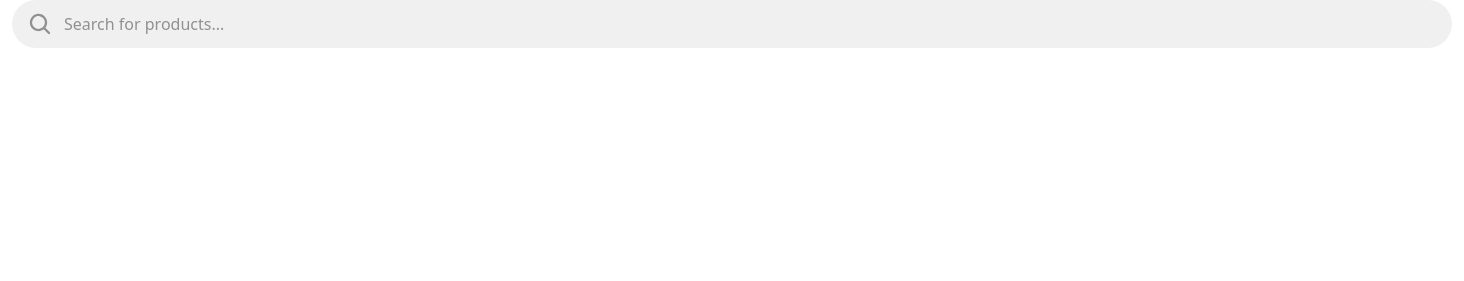
Scenario: SearchBox outside the shop page › waits for two characters, then suggests matches without pressing Enter
In the dropdown labelled "Search for products": (750,24) x1=64 y1=12 x2=1436 y2=36, type "s"
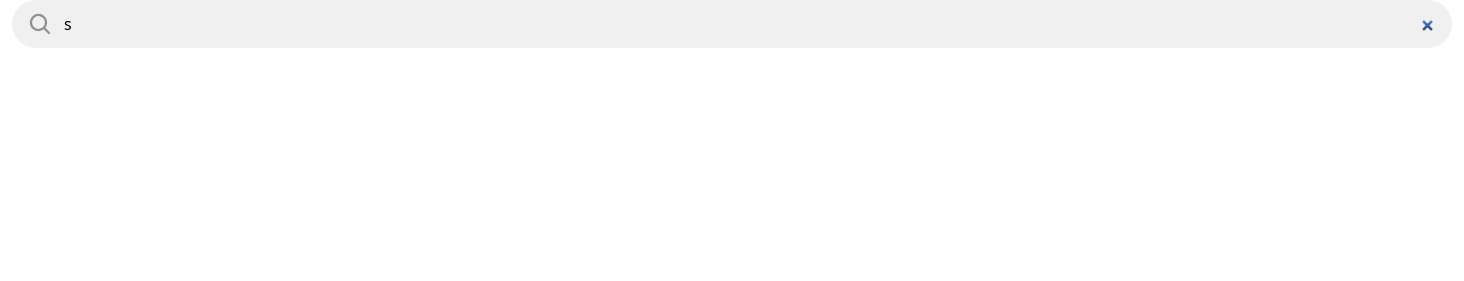
In the dropdown named "Search for products": (750,24) x1=64 y1=12 x2=1436 y2=36, type "hir"
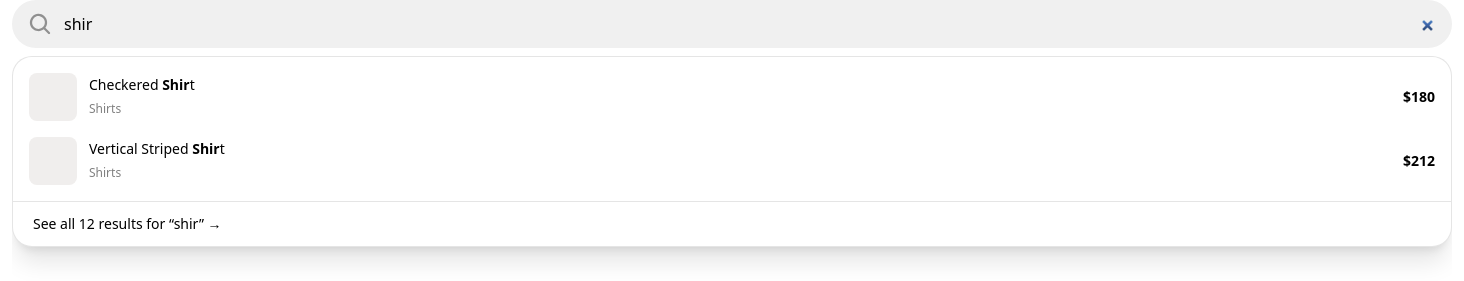
Result: the number of options is 2 at x1=13 y1=65 x2=1451 y2=129; x1=13 y1=129 x2=1451 y2=193
Result: the dropdown named "Search for products" is expanded at x1=64 y1=12 x2=1436 y2=36
Result: the button "See all 12 results for “shir” →" is shown at x1=13 y1=201 x2=1451 y2=246
